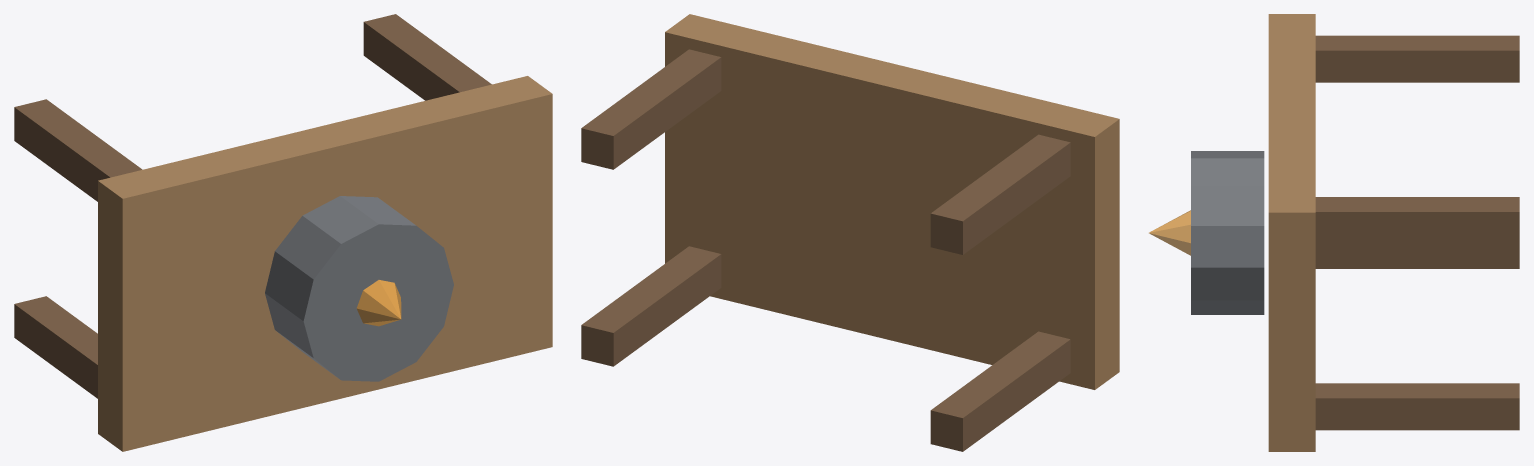
File: 04_cooking_station.glb
3 views of the same model, side by side, from view 1: azimuth 30°, elevation 25°; view 2: azimuth 150°, elevation 25°; view 3: azimuth 270°, elevation 25° (orthographic). The views are drawn at different scales.
Parts seen in each view (by area): view 1: table_top, pot, leg_3, leg_4, leg_1, fire; view 2: table_top, leg_1, leg_3, leg_4, leg_2; view 3: table_top, pot, leg_2, leg_3, leg_4, leg_1, fire.
Part boxes in pixels (bbox=[...]): table_top: bbox=[98, 76, 552, 451]; pot: bbox=[265, 196, 453, 381]; leg_3: bbox=[14, 99, 142, 201]; leg_4: bbox=[363, 14, 491, 100]; leg_1: bbox=[14, 296, 97, 398]; fire: bbox=[356, 280, 401, 326]; table_top: bbox=[665, 14, 1119, 389]; leg_1: bbox=[930, 331, 1070, 451]; leg_3: bbox=[930, 134, 1070, 254]; leg_4: bbox=[581, 49, 721, 169]; leg_2: bbox=[581, 246, 721, 366]; table_top: bbox=[1268, 14, 1315, 451]; pot: bbox=[1191, 151, 1264, 314]; leg_2: bbox=[1315, 383, 1519, 430]; leg_3: bbox=[1315, 35, 1519, 82]; leg_4: bbox=[1315, 197, 1519, 243]; leg_1: bbox=[1315, 244, 1519, 268]; fire: bbox=[1149, 210, 1190, 255].
Bounding box in the file's own units: 1.6 × 0.9 × 1.26.
